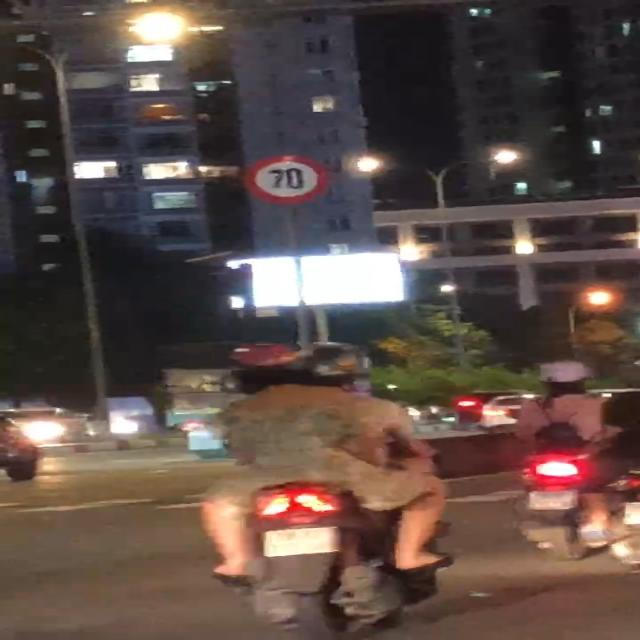Bien bao toc do toi da cho phep: (240, 152, 334, 207)
